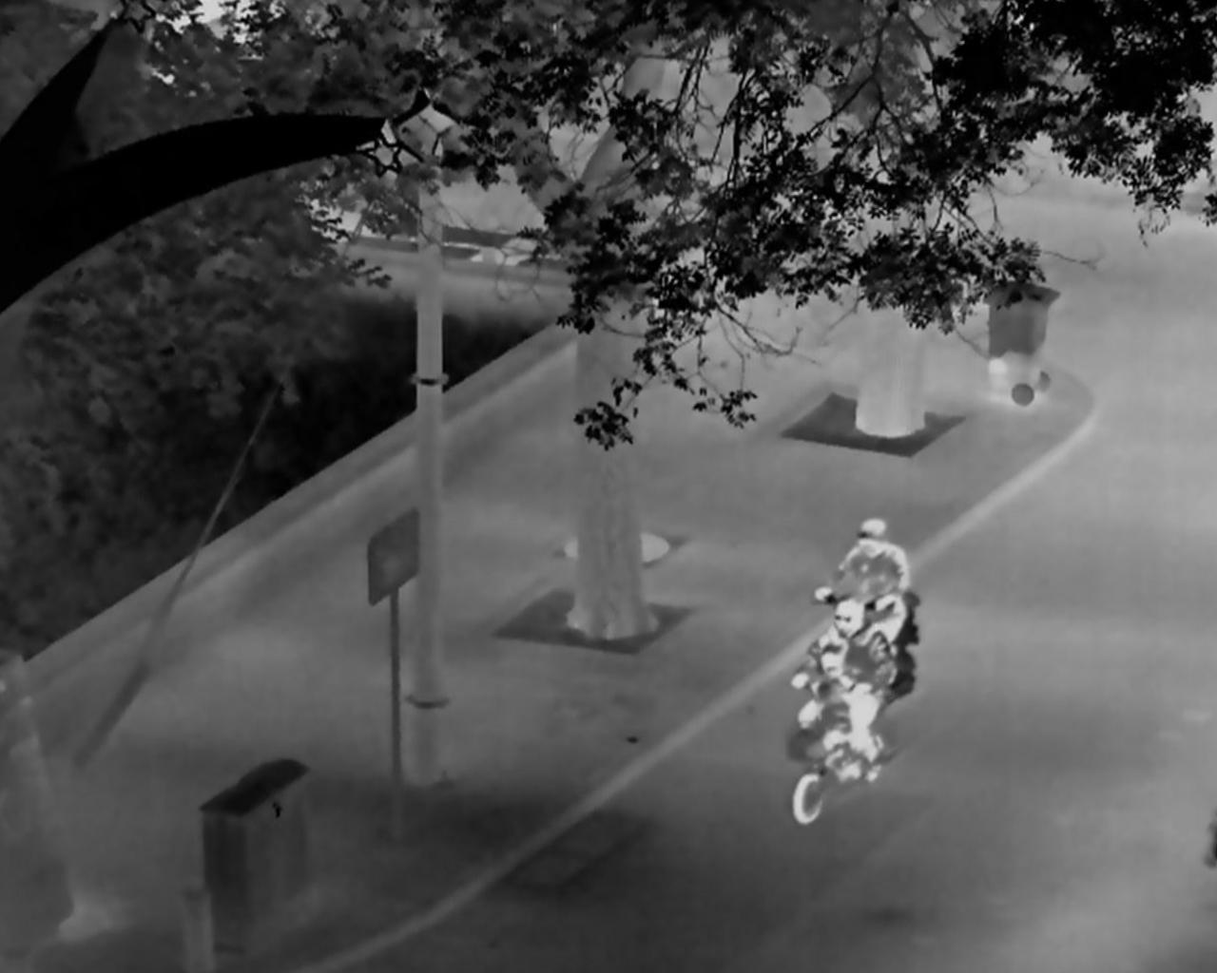person: (791, 594, 886, 782), (809, 516, 912, 655), (807, 644, 858, 760)
